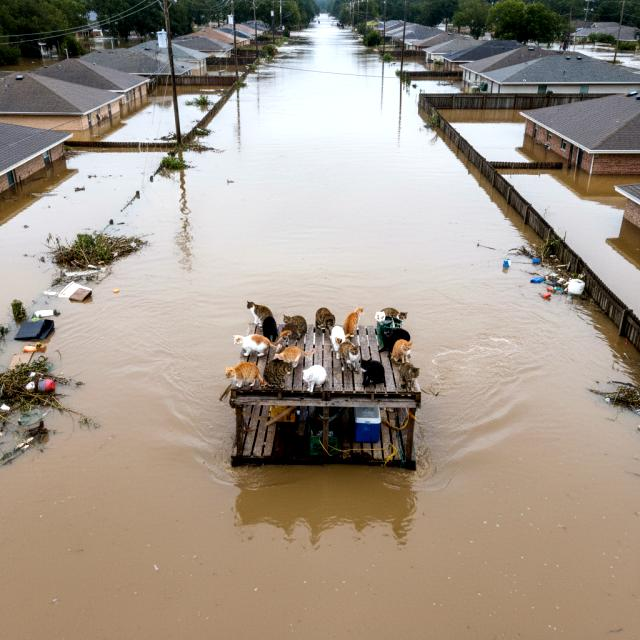cat: (229, 330, 279, 360), (224, 362, 266, 390), (262, 356, 296, 388), (245, 300, 274, 335), (358, 355, 388, 388), (274, 347, 318, 368), (380, 324, 410, 354), (300, 363, 330, 392), (309, 305, 335, 338), (337, 338, 362, 372), (281, 313, 306, 343), (344, 306, 366, 339), (328, 324, 350, 354), (397, 359, 419, 389), (376, 306, 408, 324), (262, 315, 282, 341), (392, 338, 412, 363), (373, 308, 389, 326)
